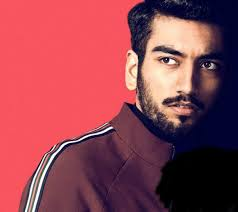middle_eastern_male: (141, 2, 230, 134)
